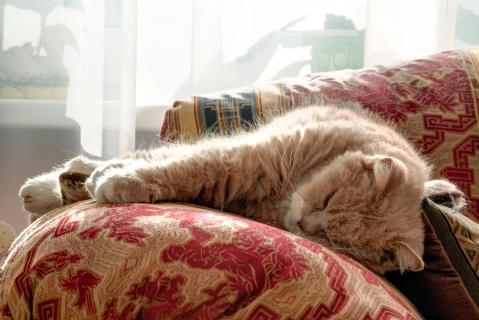Cat: (17, 92, 469, 274)
